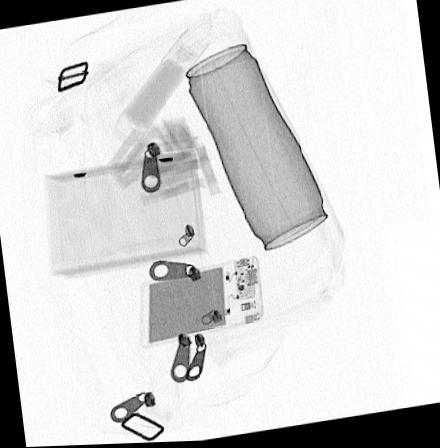Powerbank: (139, 257, 264, 350)
